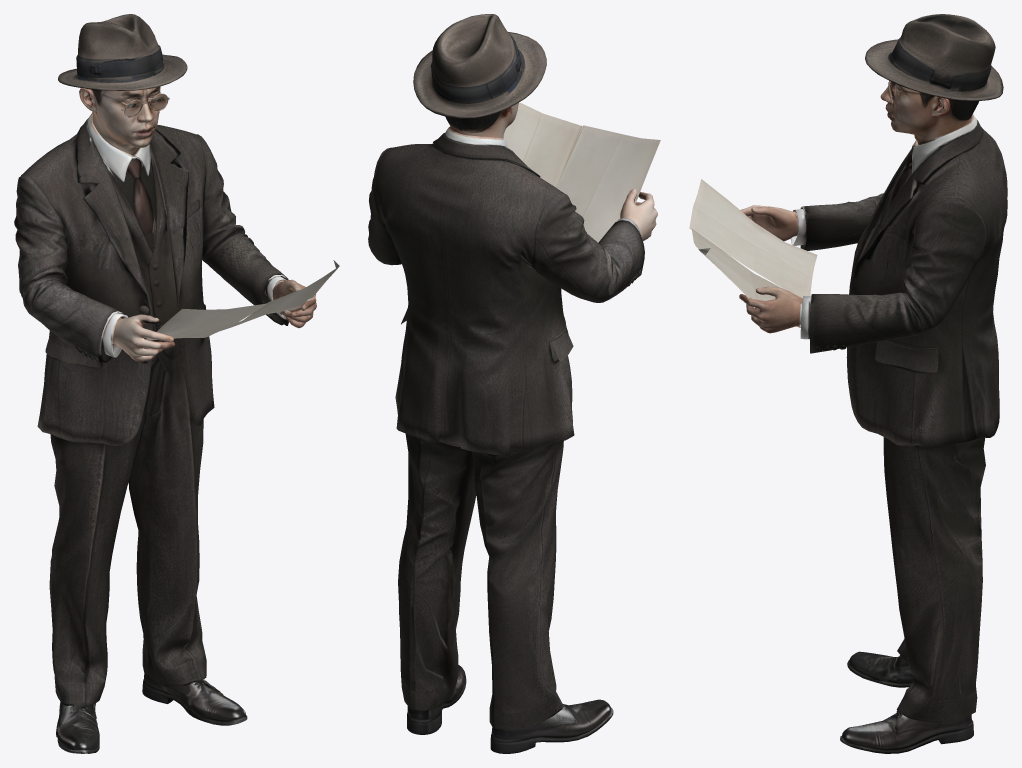
File: jung-6e27817ccc.glb
3 renders of one model, left to right at view 1: azimuth 30°, elevation 25°; view 2: azimuth 150°, elevation 25°; view 3: azimuth 270°, elevation 25°, orthographic. The views are drawn at different scales.
Parts seen in each view (by area): view 1: tripo_node_cc4852b6-d531-4274-bbf2-bd5263db1350; view 2: tripo_node_cc4852b6-d531-4274-bbf2-bd5263db1350; view 3: tripo_node_cc4852b6-d531-4274-bbf2-bd5263db1350.
Part boxes in pixels (<box>): tripo_node_cc4852b6-d531-4274-bbf2-bd5263db1350: <box>14,14,339,753</box>; tripo_node_cc4852b6-d531-4274-bbf2-bd5263db1350: <box>368,14,660,753</box>; tripo_node_cc4852b6-d531-4274-bbf2-bd5263db1350: <box>689,14,1007,753</box>.
Size of the model in its own units: 0.3472 by 0.9995 by 0.4145.
Materials: 1 (1 with a texture image).
